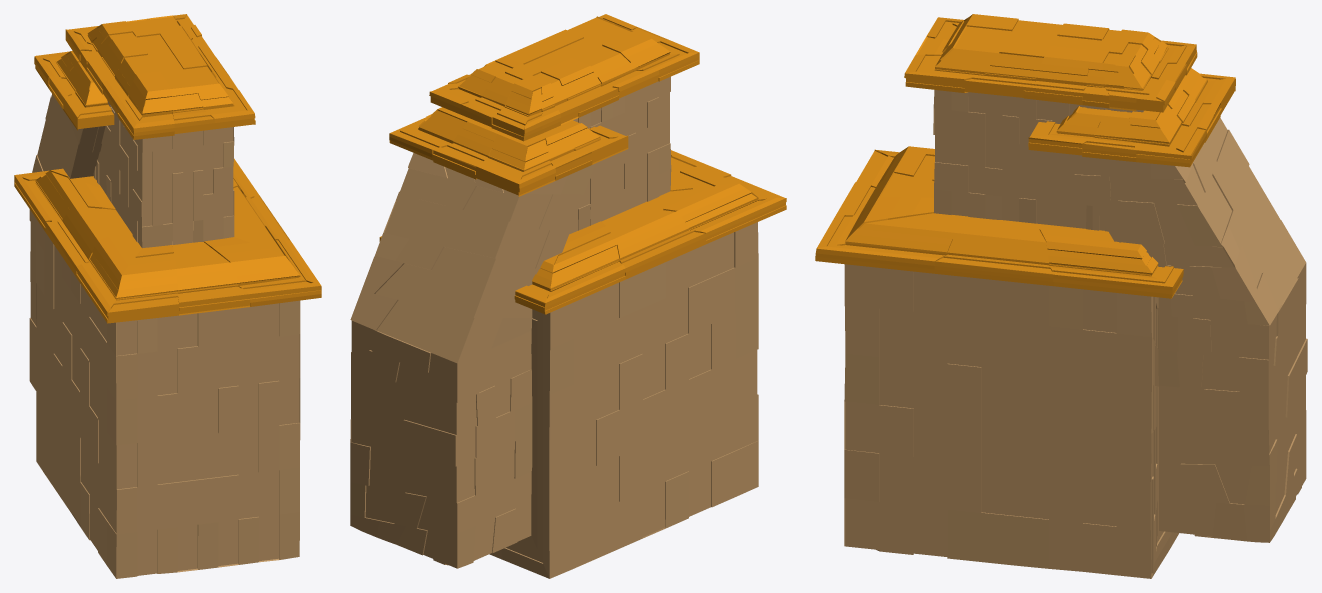
Rendered from Apartment_Building_12.fbx.
The picture shows the model from 3 angles, left to right: view 1: azimuth 30°, elevation 25°; view 2: azimuth 150°, elevation 25°; view 3: azimuth 270°, elevation 25°; orthographic projection. The views are drawn at different scales.
Parts seen in each view (by area): view 1: Cube.610; view 2: Cube.610; view 3: Cube.610.
Part boxes in pixels (left/top/right/bottom): Cube.610: left=14, top=14, right=321, bottom=578; Cube.610: left=350, top=14, right=786, bottom=578; Cube.610: left=815, top=14, right=1307, bottom=578.
Bounding box in the file's own units: 1274 × 2105 × 1937.
